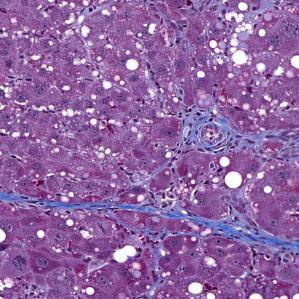fibrosis: (84, 196, 270, 239), (174, 106, 281, 164)
